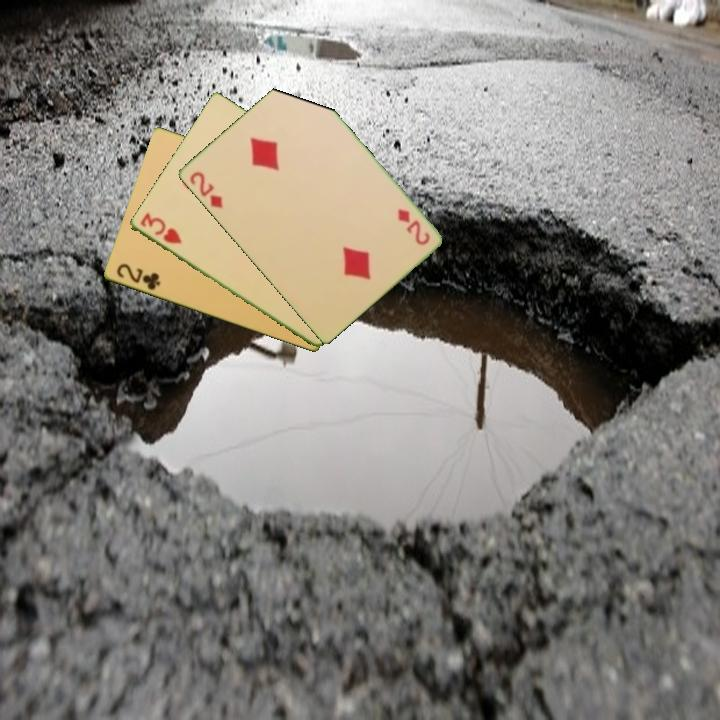2c: (112, 260, 163, 293)
2d: (186, 168, 226, 211), (394, 205, 433, 248)
3h: (136, 209, 185, 247)
